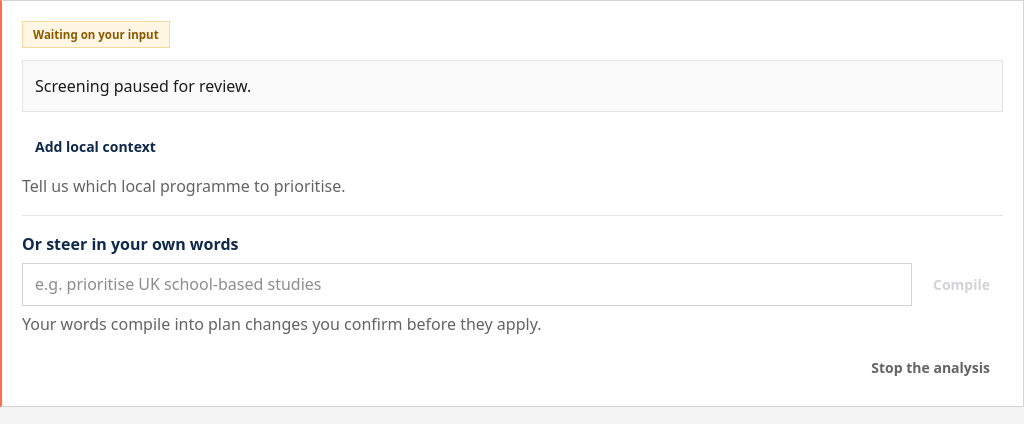
CheckInCard — option parameters › other requires_user_input options pre-seed and focus the free-text steer instead of a generic form
Click the button "Add local context".
click(95, 147)  # box [22,128,169,165]
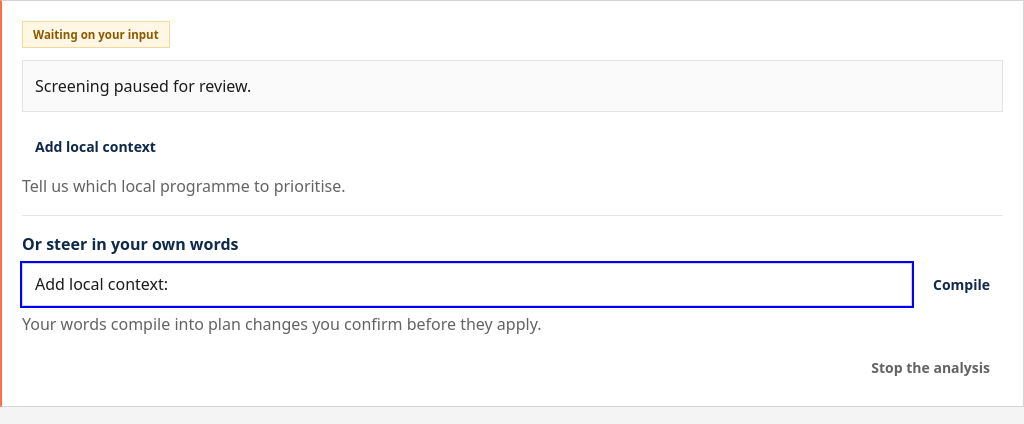
Now the field labelled "Or steer in your own words" holds "Add local context: ", box [22,263,912,306]
